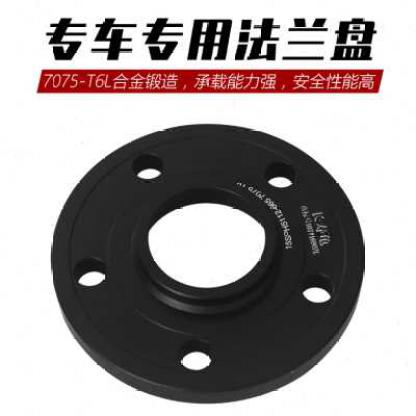FOD: (42, 118, 370, 407)
